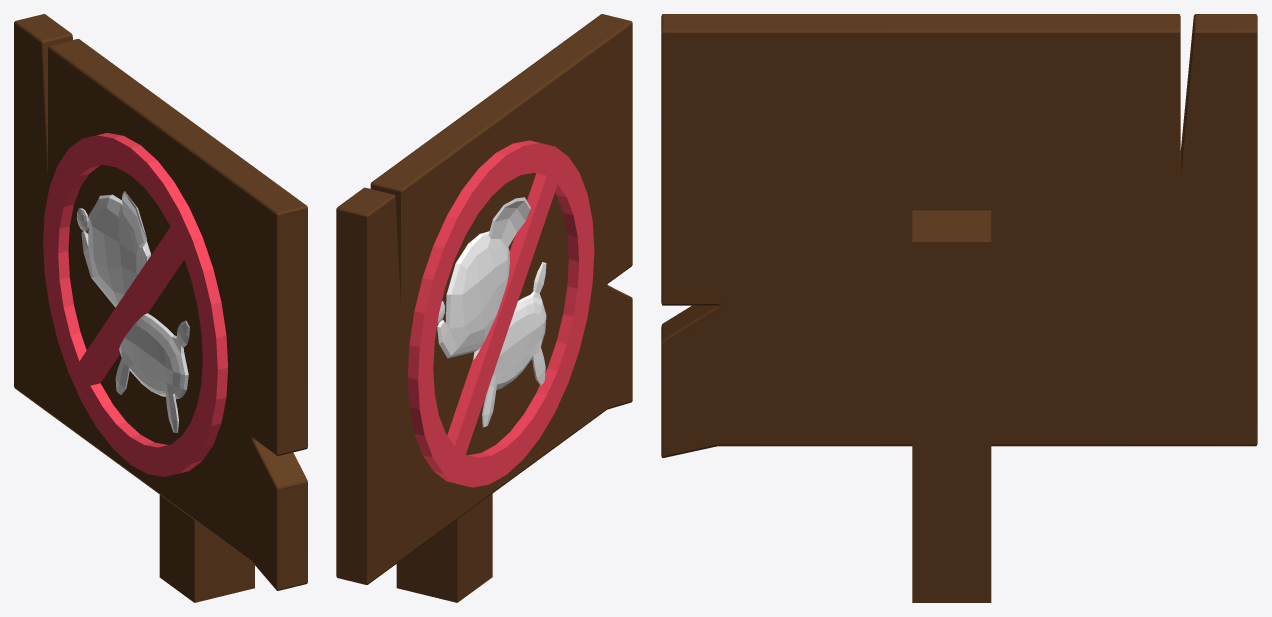
Rendered from SM_Schild_02.fbx.
3 renders of one model, left to right at view 1: azimuth 30°, elevation 25°; view 2: azimuth 150°, elevation 25°; view 3: azimuth 270°, elevation 25°, orthographic. The views are drawn at different scales.
Parts seen in each view (by area): view 1: Schild_02.001; view 2: Schild_02.001; view 3: Schild_02.001.
Part boxes in pixels (x1=…): Schild_02.001: x1=14, y1=14, x2=307, y2=602; Schild_02.001: x1=336, y1=14, x2=632, y2=602; Schild_02.001: x1=661, y1=14, x2=1257, y2=602.
Size of the model in its own units: 25.5 by 110 by 110.
